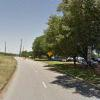Tree: (40, 2, 94, 61)
